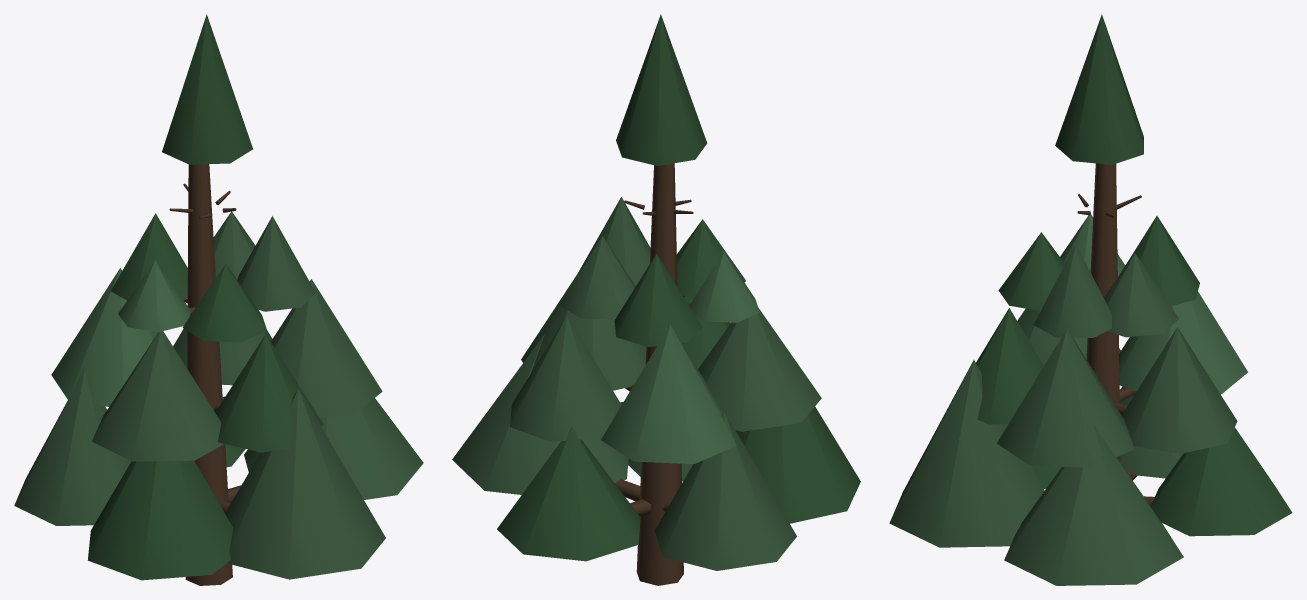
The model's file is tree_low.glb.
3 views of the same model, side by side, from view 1: azimuth 30°, elevation 25°; view 2: azimuth 150°, elevation 25°; view 3: azimuth 270°, elevation 25° (orthographic).
Size of the model in its own units: 4.96 by 7.66 by 4.99.
